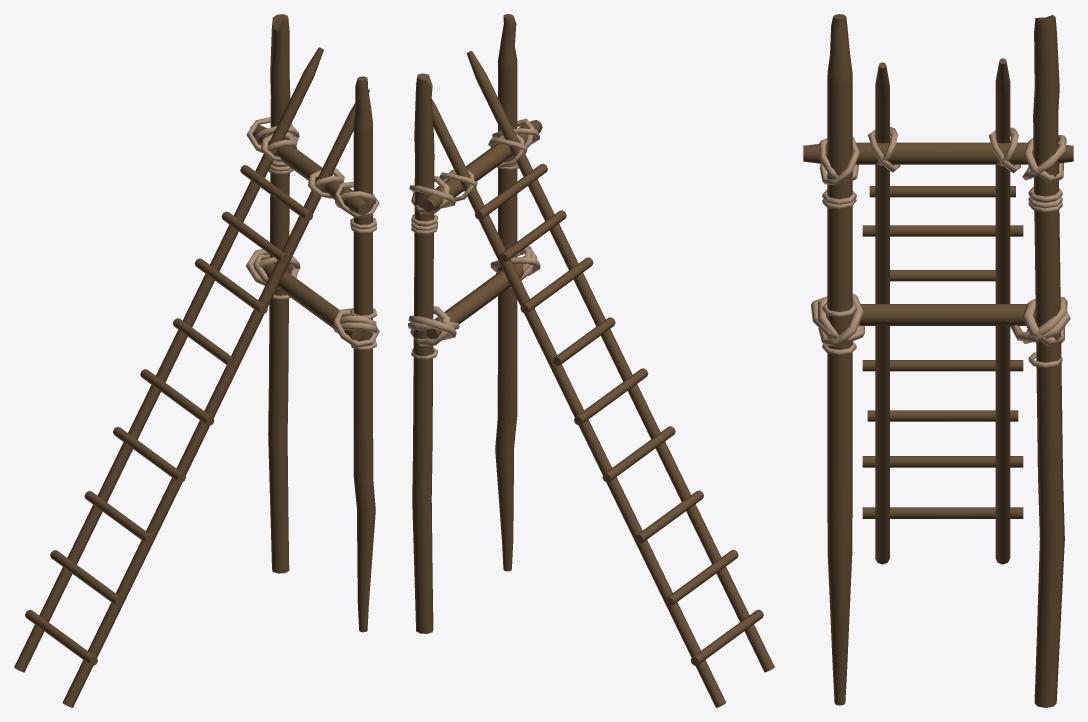
Rendered from woodenBridge_deadEnd_mesh.fbx.
3 views of the same model, side by side, from view 1: azimuth 30°, elevation 25°; view 2: azimuth 150°, elevation 25°; view 3: azimuth 270°, elevation 25° (orthographic). The views are drawn at different scales.
Parts seen in each view (by area): view 1: deadEnd; view 2: deadEnd; view 3: deadEnd.
Boxes of the visible parts, <box> form: deadEnd: <box>14,14,379,707</box>; deadEnd: <box>408,14,774,707</box>; deadEnd: <box>803,14,1073,707</box>.
Bounding box in the file's own units: 0.7186 × 1.28 × 0.4387.
